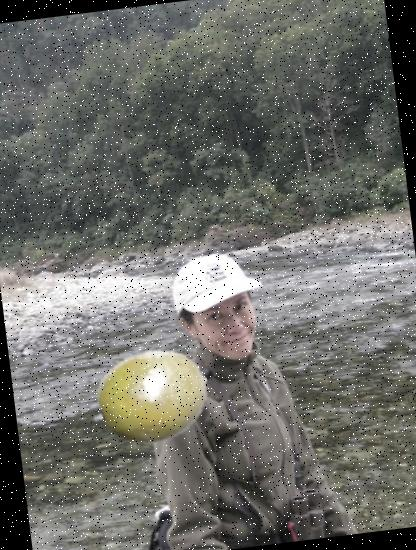Maracuja: (84, 331, 216, 464)
